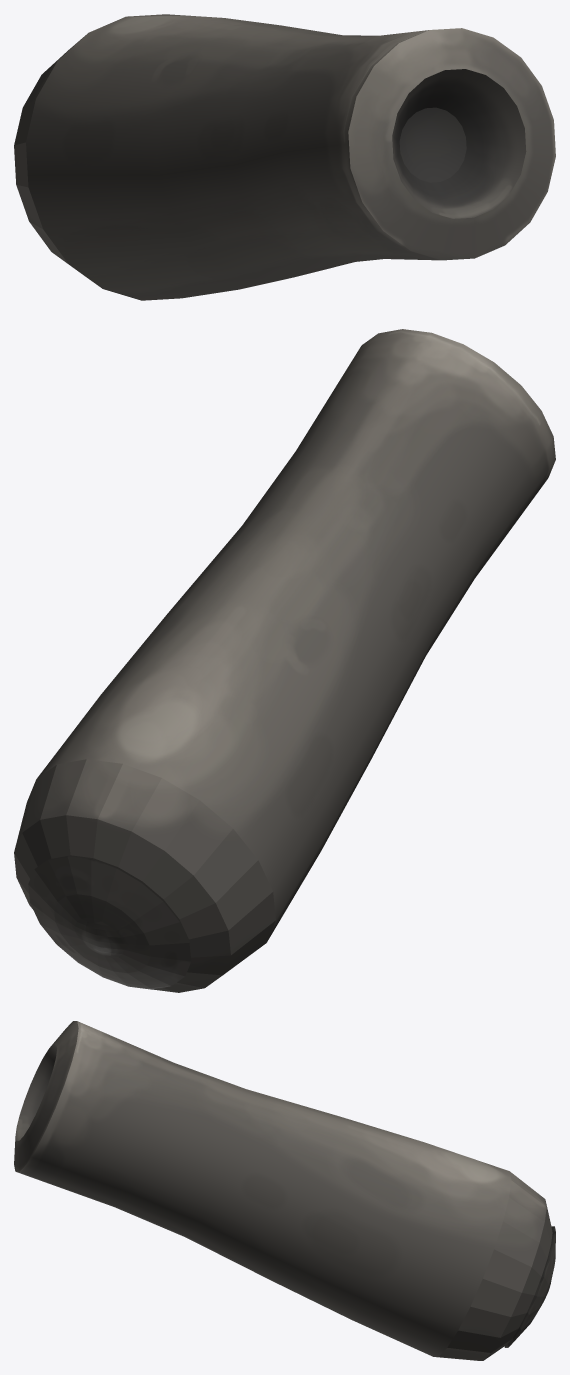
The model's file is pirateCannonBarrel.fbx.
3 renders of one model, top to bottom at view 1: azimuth 30°, elevation 25°; view 2: azimuth 150°, elevation 25°; view 3: azimuth 270°, elevation 25°, orthographic. The views are drawn at different scales.
Visible parts, largest first — view 1: polySurface3; view 2: polySurface3; view 3: polySurface3.
Boxes of the visible parts, x1,y1,x2,y2 form: polySurface3: (14, 14, 555, 300); polySurface3: (14, 329, 555, 992); polySurface3: (14, 1021, 555, 1360).
Bounding box in the file's own units: 534 × 943 × 1434.
